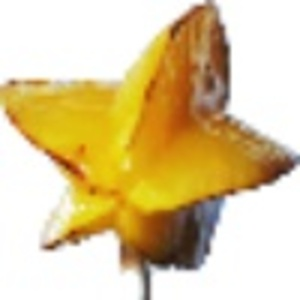carambola: (1, 1, 300, 288)
